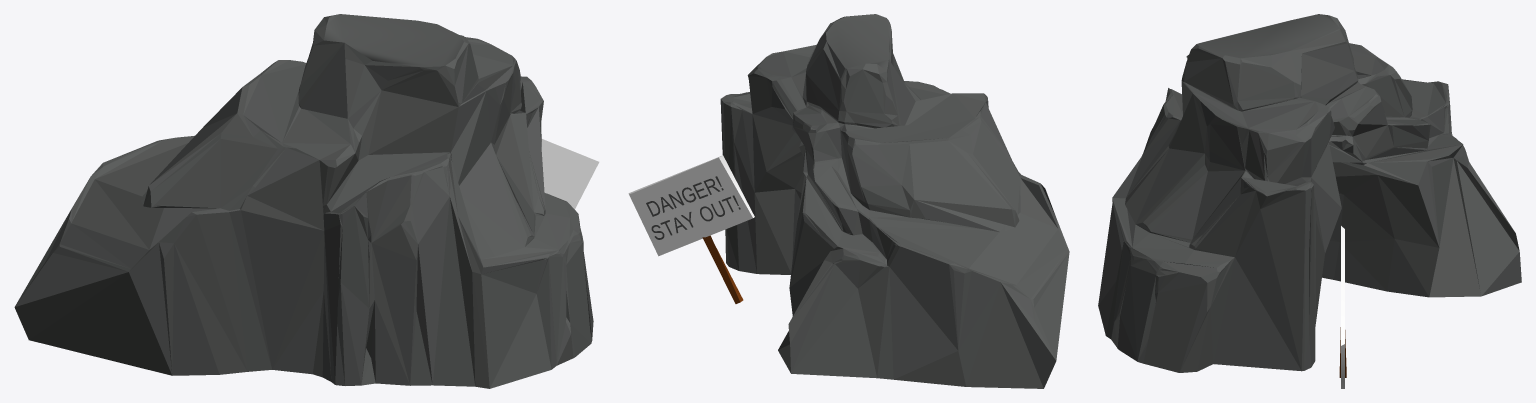
Rendered from Den (1).fbx.
3 views of the same model, side by side, from view 1: azimuth 30°, elevation 25°; view 2: azimuth 150°, elevation 25°; view 3: azimuth 270°, elevation 25° (orthographic). The views are drawn at different scales.
Parts seen in each view (by area): view 1: Логово босса; view 2: Логово босса; view 3: Логово босса.
Part boxes in pixels (x1,y1,x2,y2): Логово босса: [14, 14, 599, 388]; Логово босса: [628, 14, 1069, 388]; Логово босса: [1098, 14, 1521, 388].
Bounding box in the file's own units: 8401 × 4627 × 5999.
3 materials, 3 textured.
